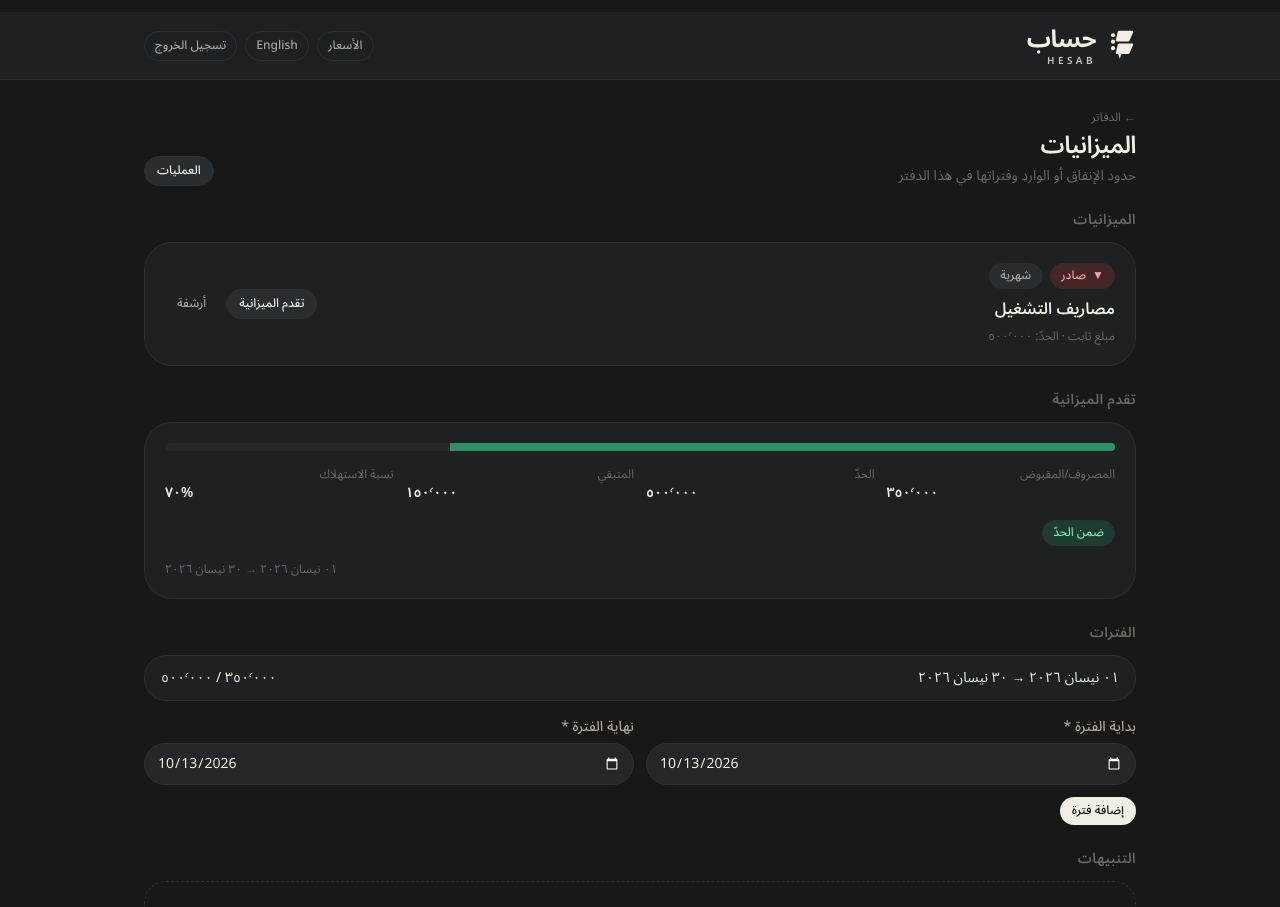
Test: BudgetsView › adds a period to the selected budget
This screenshot has width=1280, height=907.
Expected: the progress indicator is shown, [165, 444, 1115, 452]
Type "2026-05-01" into the date field labelled "بداية الفترة *" at (891, 764), box [646, 744, 1136, 786]
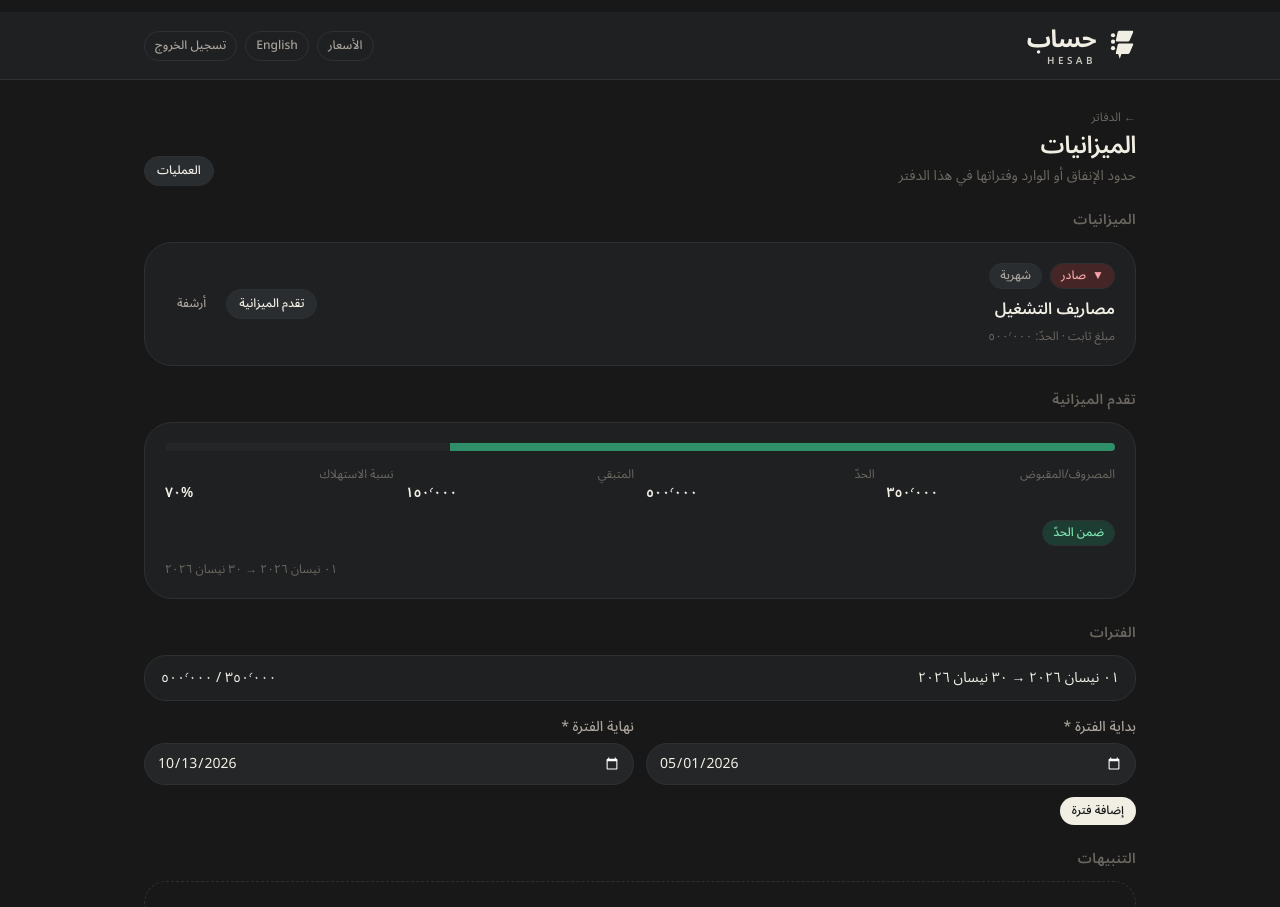
Type "2026-05-31" into the date field labelled "نهاية الفترة *" at (389, 764), box [144, 744, 634, 786]
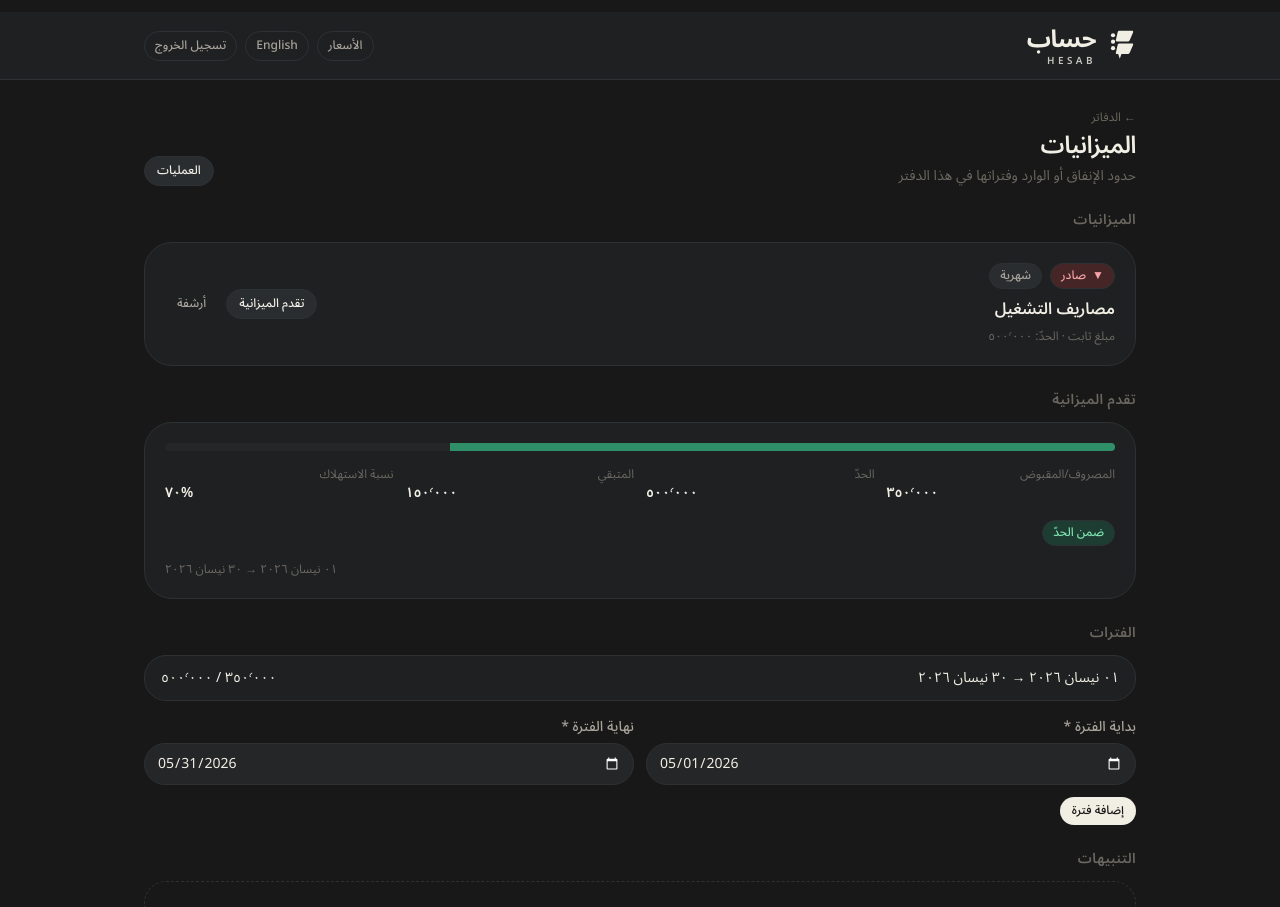
Click the button "إضافة فترة" at (1098, 812), box [1060, 798, 1136, 826]
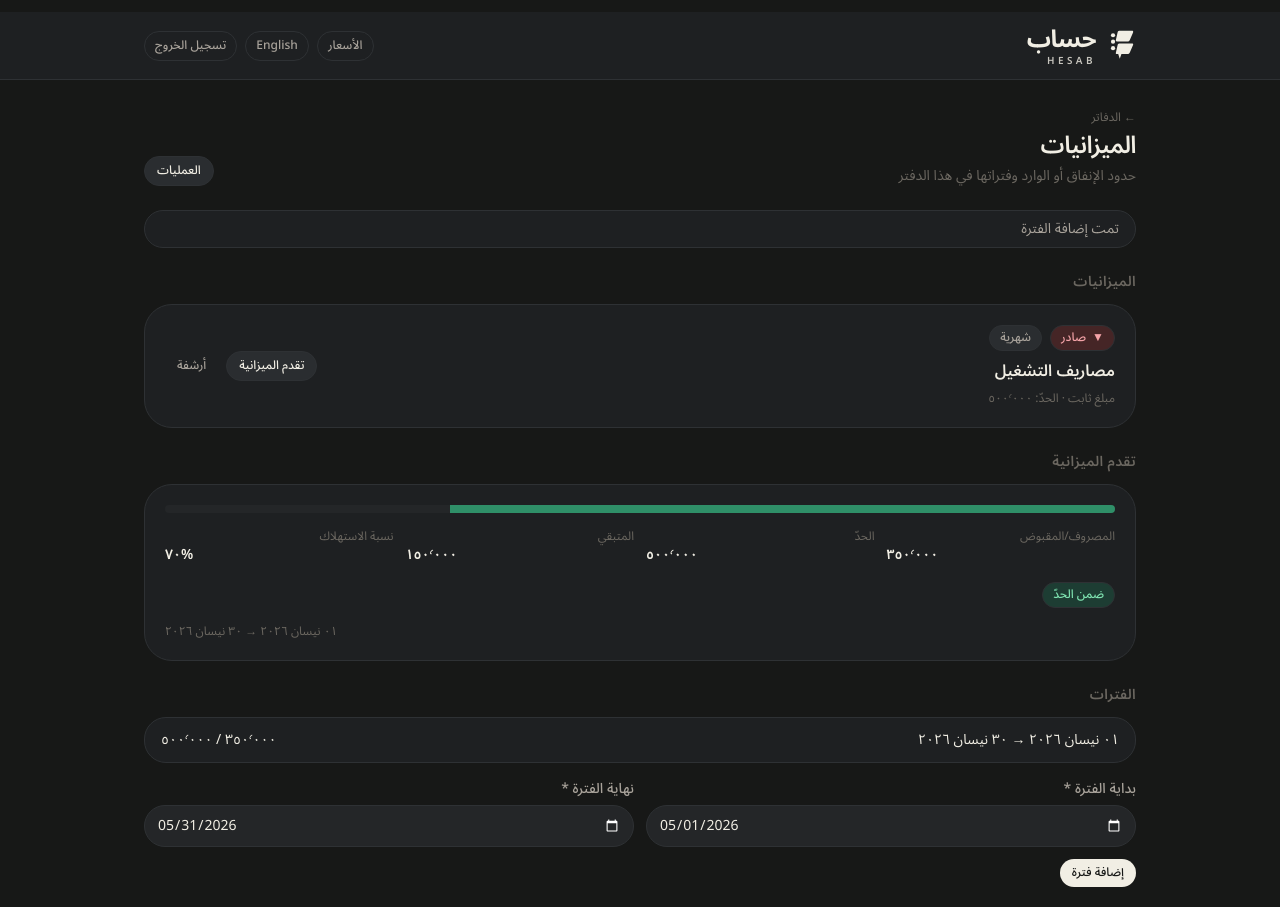
Expected: the text "تمت إضافة الفترة" is shown, [144, 210, 1136, 248]
